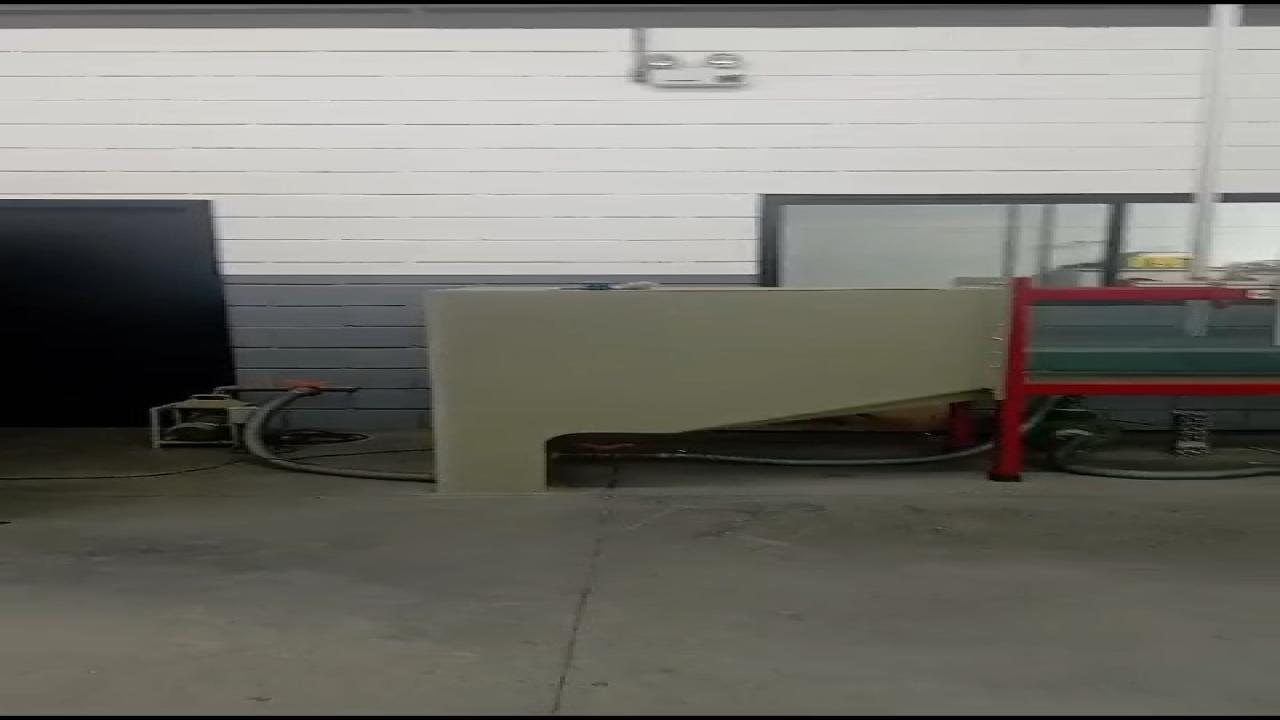Cube: (578, 282, 614, 290)
